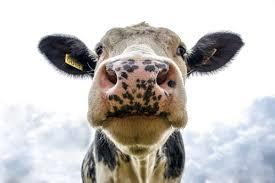cow: (38, 22, 245, 183)
